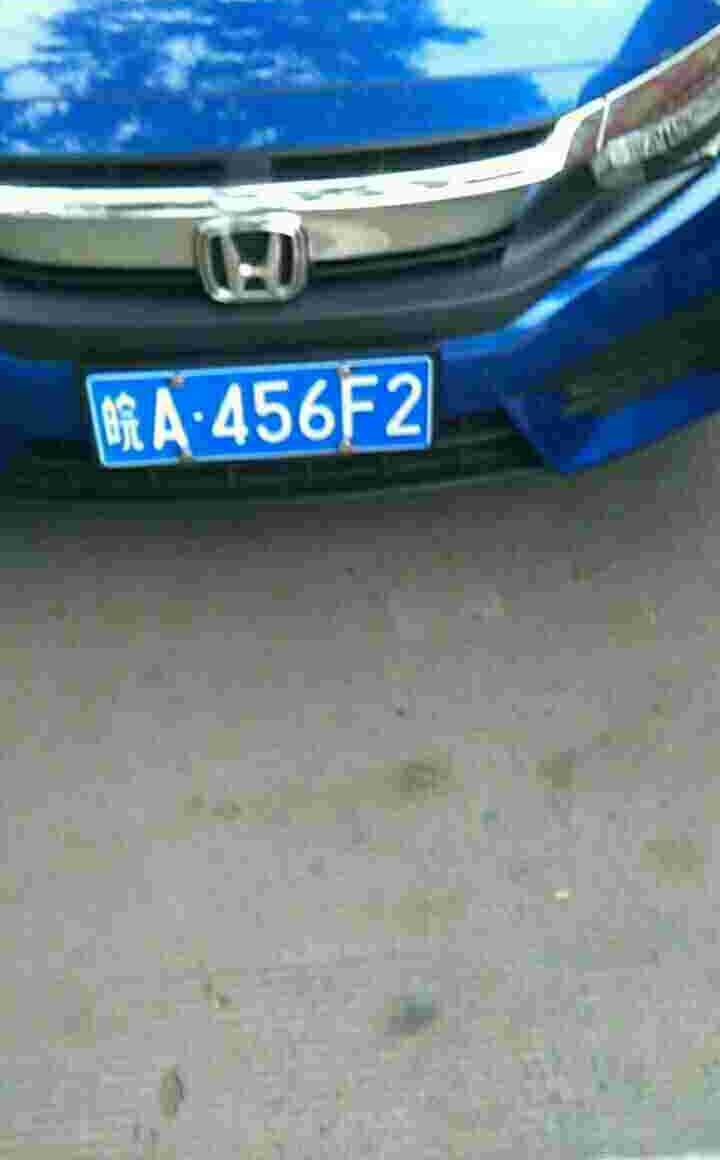license_plate: (94, 361, 448, 450)
